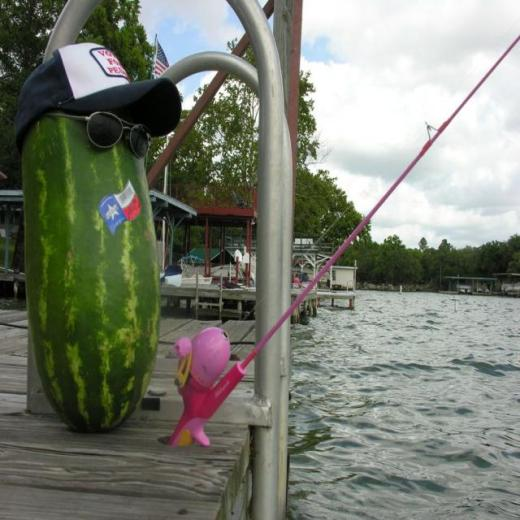Cherry: (19, 109, 161, 433)
